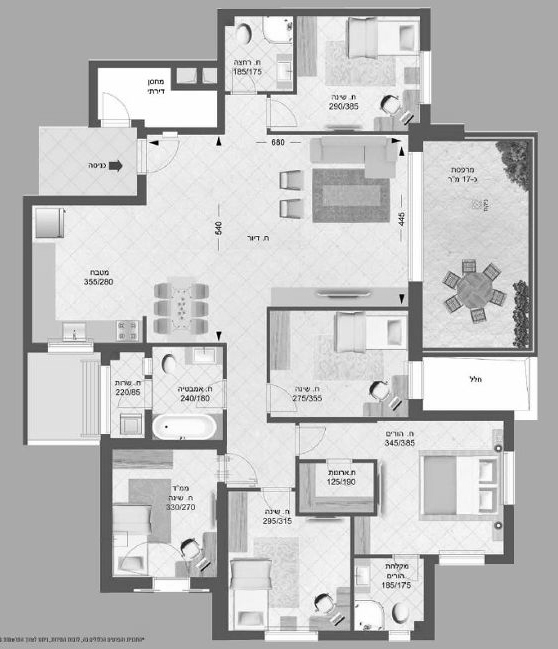balcony: (425, 143, 531, 349)
door: (146, 137, 185, 181), (290, 422, 336, 454), (266, 381, 310, 412), (224, 453, 263, 487), (198, 376, 229, 409), (265, 96, 302, 123), (102, 94, 134, 123)
room: (39, 203, 217, 341), (260, 134, 408, 291), (421, 147, 528, 347), (228, 22, 418, 125), (380, 430, 499, 550), (269, 312, 410, 413), (233, 497, 343, 626), (115, 453, 210, 575), (110, 360, 224, 435), (358, 561, 419, 625)
wall: (98, 433, 114, 591), (20, 195, 35, 349), (226, 8, 428, 18), (217, 483, 227, 637), (414, 408, 516, 421), (271, 127, 414, 135), (268, 415, 411, 421), (410, 284, 422, 354), (99, 60, 216, 67), (89, 59, 100, 128), (97, 341, 155, 354), (414, 124, 464, 137), (502, 508, 513, 564), (267, 305, 410, 309), (36, 199, 144, 204), (119, 575, 152, 589), (421, 11, 433, 48), (159, 342, 226, 348), (506, 411, 515, 452), (189, 578, 214, 592), (221, 6, 225, 62), (424, 104, 430, 138)
window: (417, 48, 437, 102), (147, 571, 193, 591), (501, 456, 519, 506), (441, 550, 488, 568), (263, 628, 320, 641), (48, 340, 98, 353), (164, 128, 182, 140), (387, 633, 413, 638)
